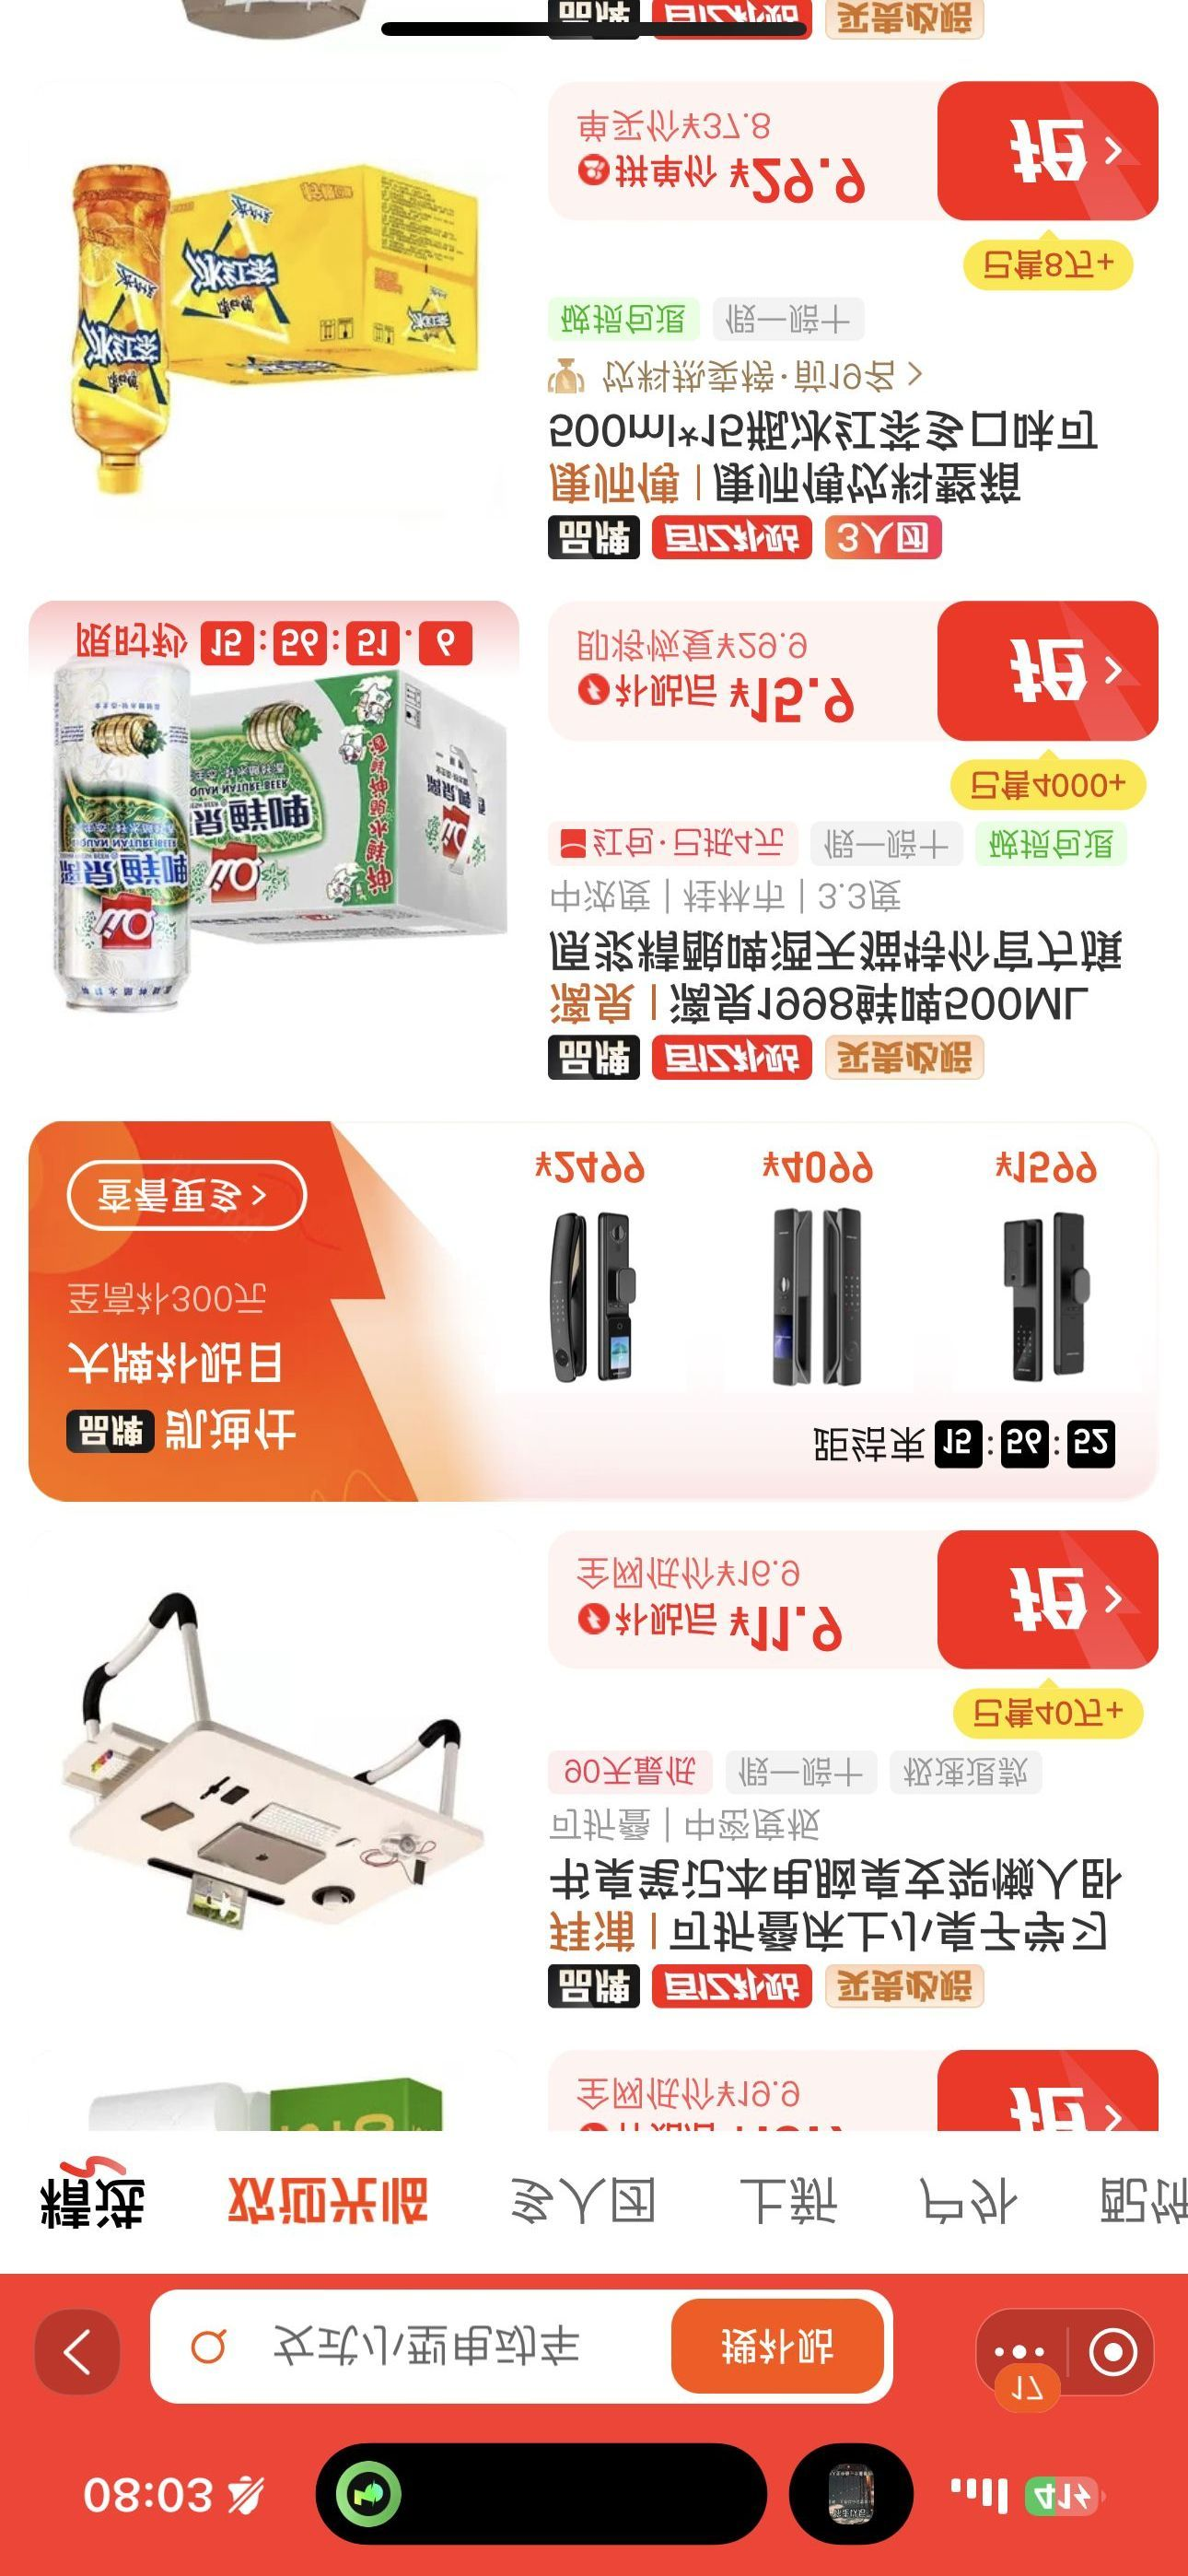banner: (8, 1101, 1183, 1500)
item: (16, 1521, 1186, 2024), (16, 572, 1178, 1066), (13, 95, 1188, 559)
op_bar: (5, 2292, 1183, 2422)
